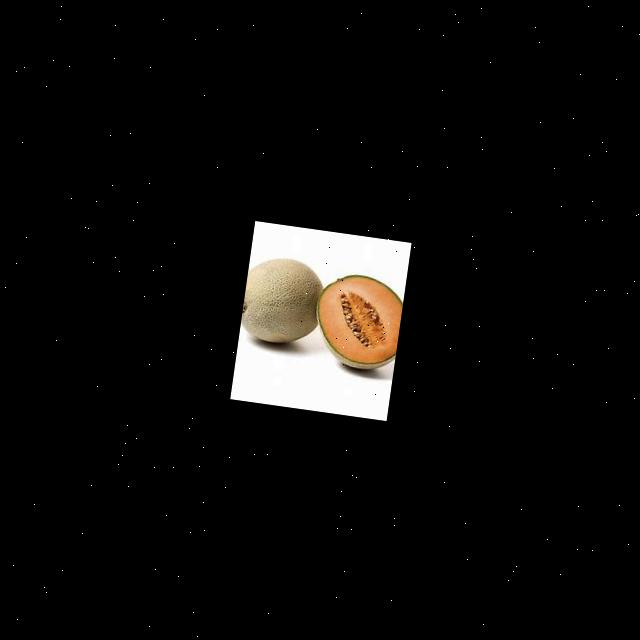Hami Melon: (308, 268, 406, 373), (238, 252, 323, 347)
